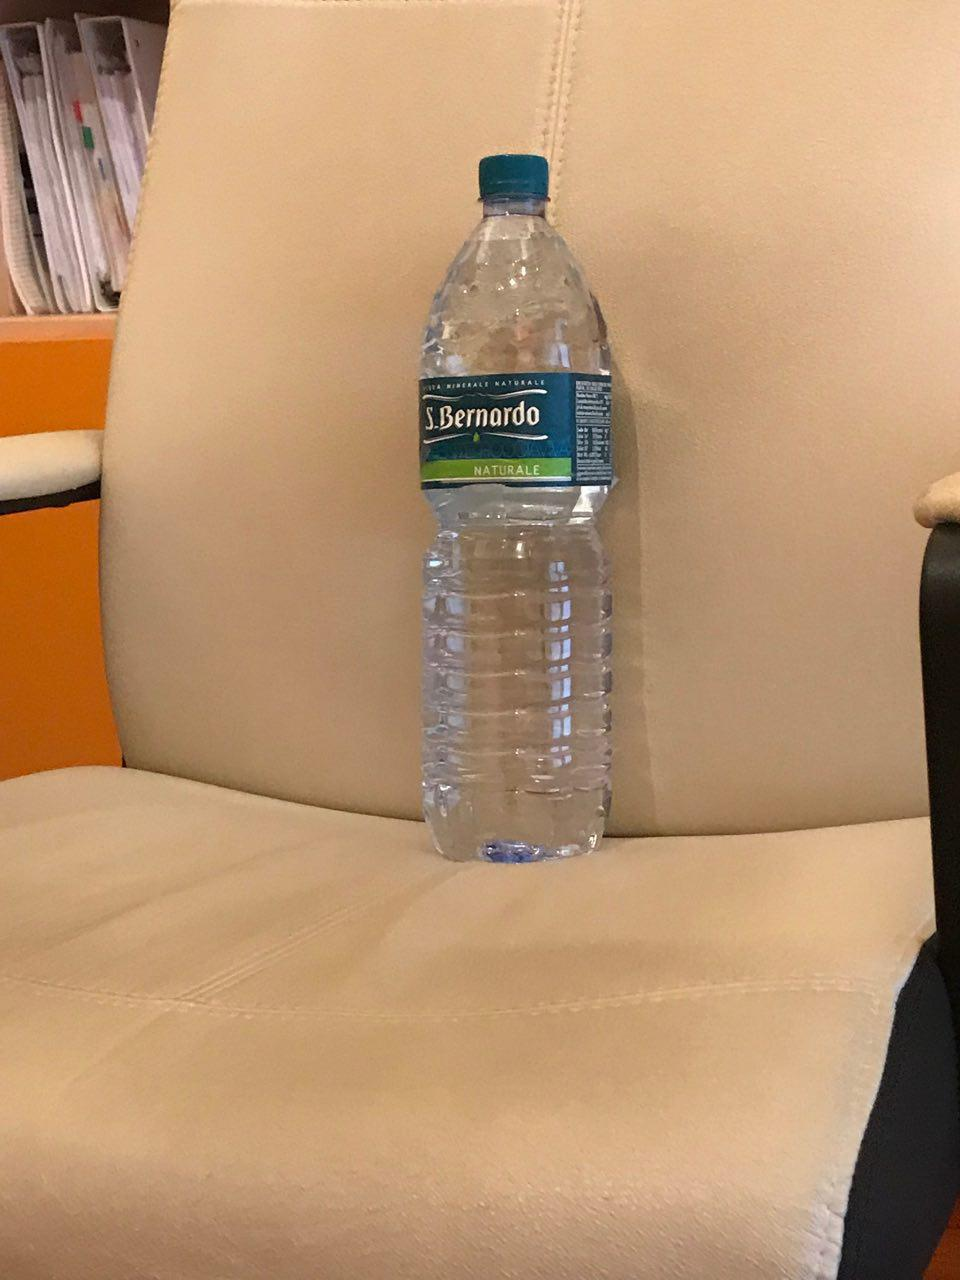san_bernardo: (416, 153, 616, 862)
